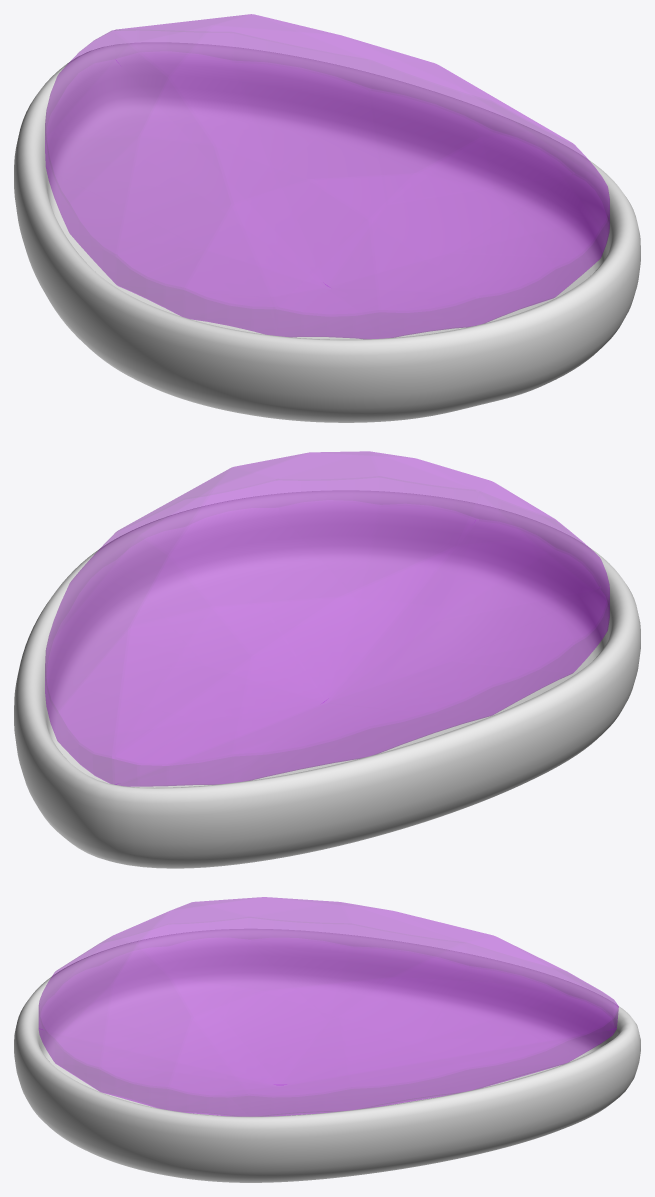
The model's file is Water Gem.glb.
The picture shows the model from 3 angles, top to bottom: view 1: azimuth 30°, elevation 25°; view 2: azimuth 150°, elevation 25°; view 3: azimuth 270°, elevation 25°; orthographic projection. The views are drawn at different scales.
Parts seen in each view (by area): view 1: Gem_Drop|Gem_Drop_Mount|Dupli|1_Metal_Drop_0, Gem_Drop|Gem_Drop.obj|Dupli|_Gem_Drop_0; view 2: Gem_Drop|Gem_Drop_Mount|Dupli|1_Metal_Drop_0, Gem_Drop|Gem_Drop.obj|Dupli|_Gem_Drop_0; view 3: Gem_Drop|Gem_Drop_Mount|Dupli|1_Metal_Drop_0, Gem_Drop|Gem_Drop.obj|Dupli|_Gem_Drop_0.
Part boxes in pixels (left/top/right/bottom): Gem_Drop|Gem_Drop_Mount|Dupli|1_Metal_Drop_0: left=14, top=42, right=640, bottom=422; Gem_Drop|Gem_Drop.obj|Dupli|_Gem_Drop_0: left=45, top=14, right=609, bottom=338; Gem_Drop|Gem_Drop_Mount|Dupli|1_Metal_Drop_0: left=14, top=490, right=640, bottom=868; Gem_Drop|Gem_Drop.obj|Dupli|_Gem_Drop_0: left=45, top=451, right=609, bottom=786; Gem_Drop|Gem_Drop_Mount|Dupli|1_Metal_Drop_0: left=14, top=928, right=640, bottom=1182; Gem_Drop|Gem_Drop.obj|Dupli|_Gem_Drop_0: left=38, top=897, right=618, bottom=1116.
Bounding box in the file's own units: 1.47 × 0.6367 × 1.96.
